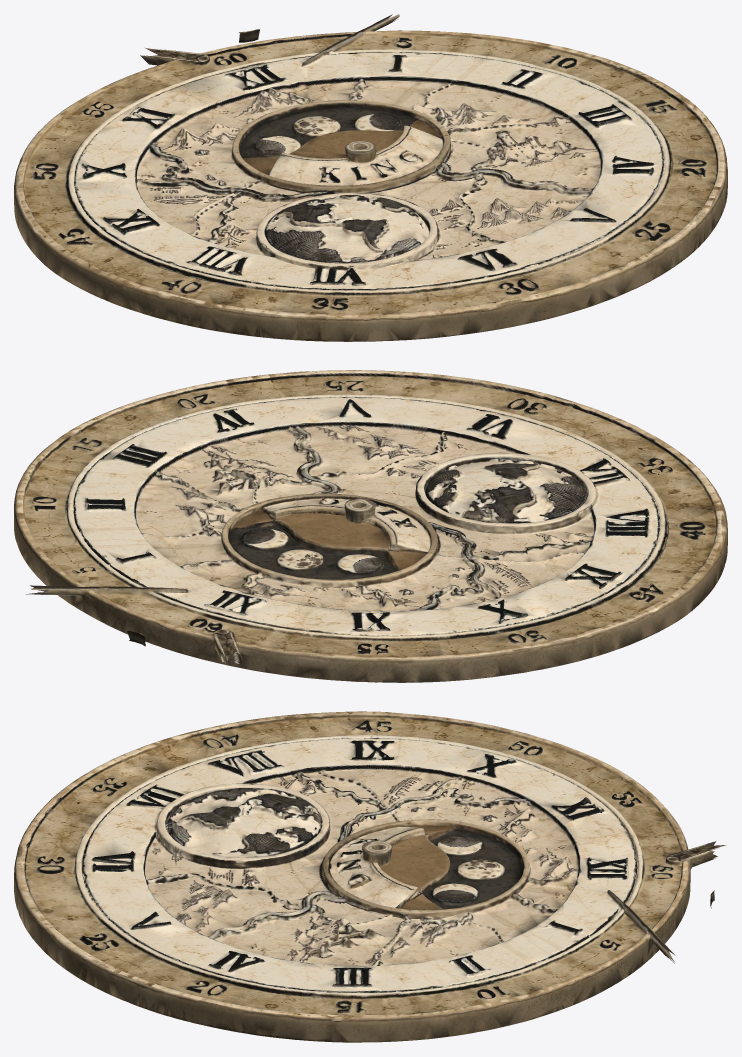
Rendered from reloj-esfera.glb.
The picture shows the model from 3 angles, top to bottom: view 1: azimuth 30°, elevation 25°; view 2: azimuth 150°, elevation 25°; view 3: azimuth 270°, elevation 25°; orthographic projection.
Size of the model in its own units: 1.5 by 0.0945 by 1.46.
1 material, 1 textured.
